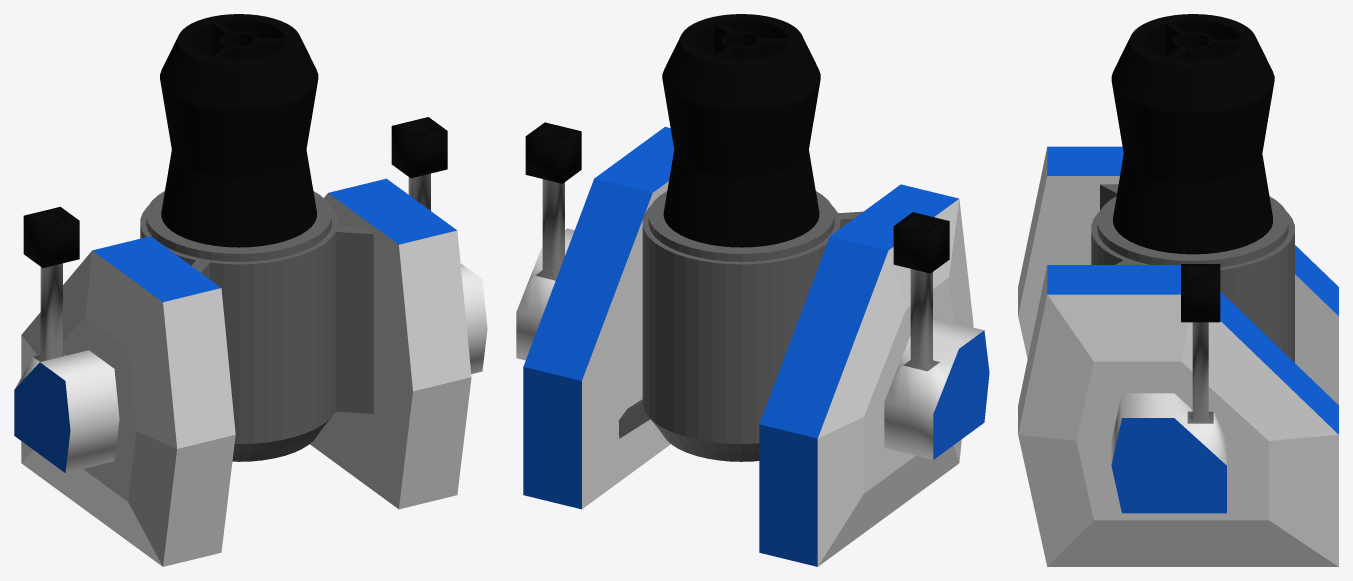
Rendered from Tower Media B.fbx.
The picture shows the model from 3 angles, left to right: view 1: azimuth 30°, elevation 25°; view 2: azimuth 150°, elevation 25°; view 3: azimuth 270°, elevation 25°; orthographic projection. The views are drawn at different scales.
Visible parts, largest first — view 1: Corpo; view 2: Corpo; view 3: Corpo.
Part boxes in pixels (x1=…): Corpo: x1=14, y1=14, x2=487, y2=566; Corpo: x1=516, y1=14, x2=989, y2=566; Corpo: x1=1018, y1=14, x2=1338, y2=566.
Size of the model in its own units: 340 by 342 by 220.
